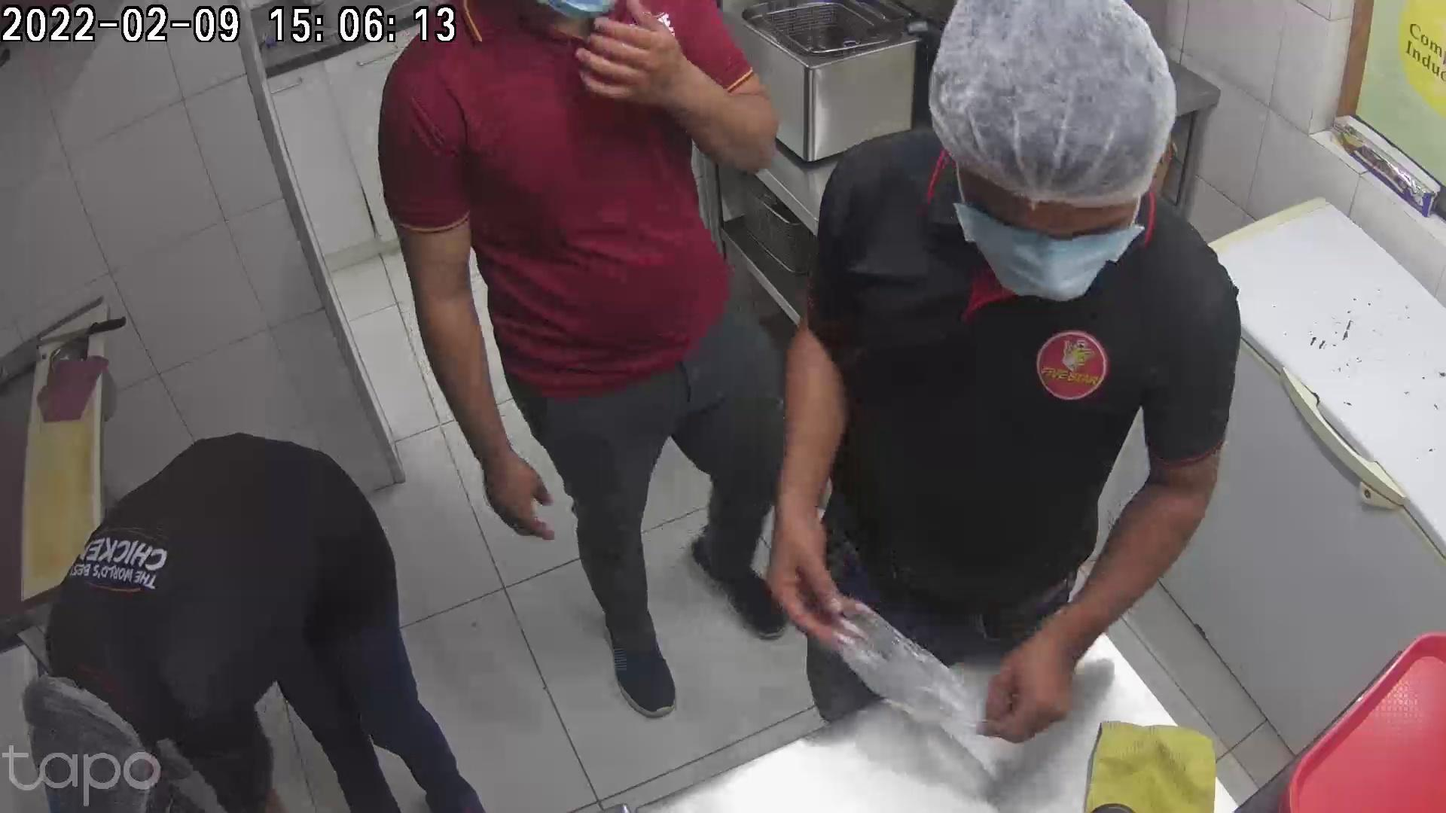no_gloves: (581, 18, 703, 118), (478, 436, 550, 537)
